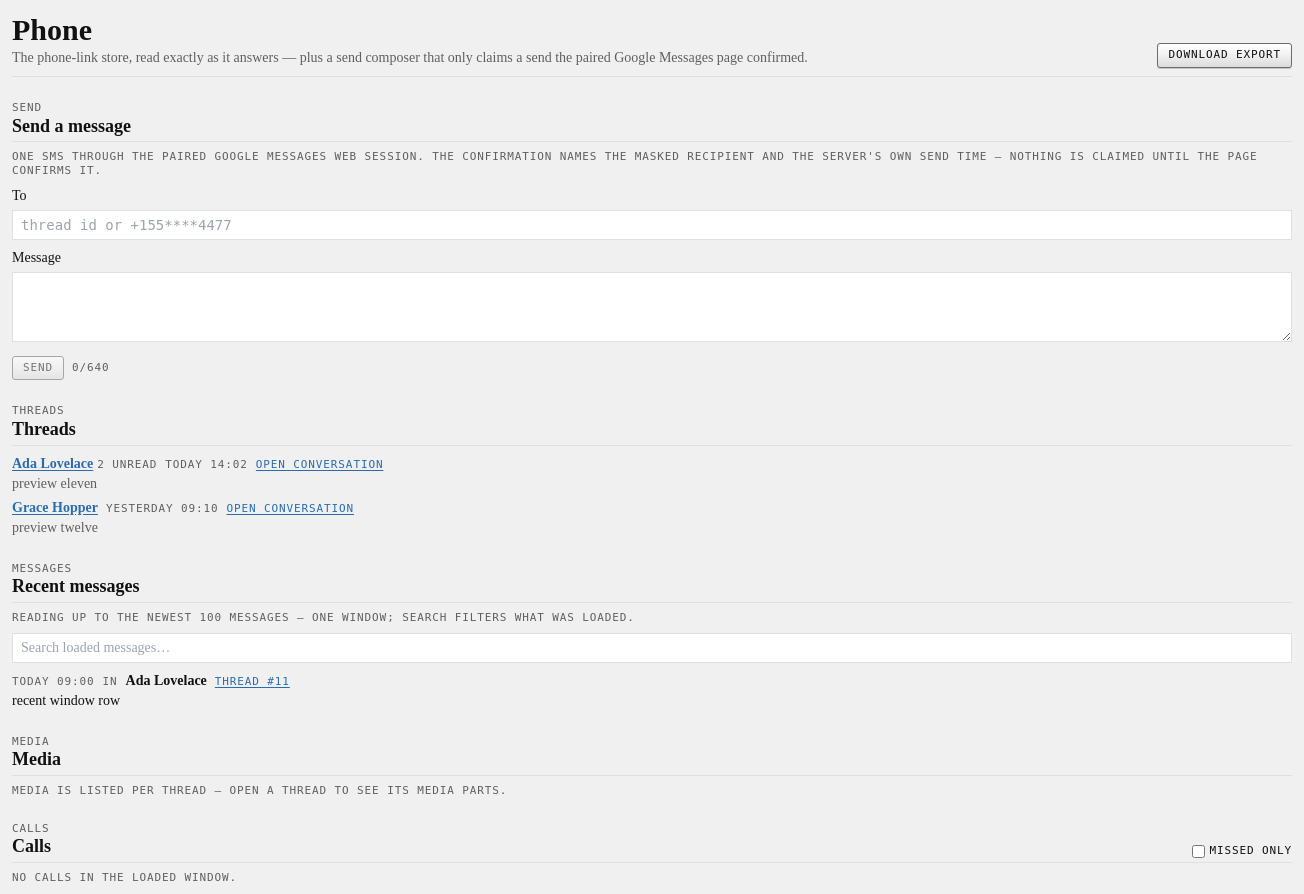
Test: phone thread view — loading / empty / refusal / unavailable › names a refusal inline (code + message + fix hint) and retries on demand
What coordinates should you click on to do the following:
click the button with aria-label "Open conversation with Ada Lovelace"
I would click on:
 (320, 464)
Its box is [256,458,383,471].
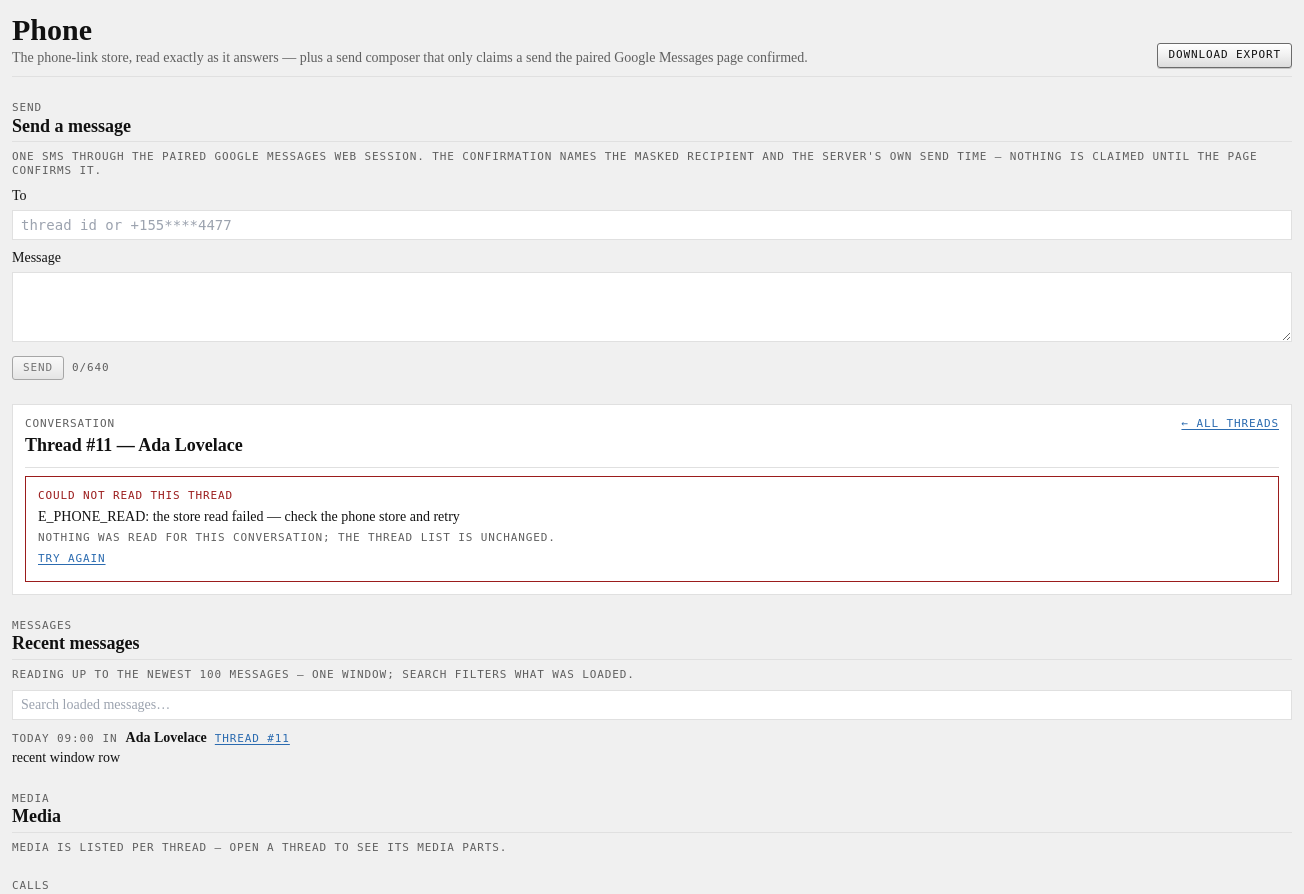
Expected: the message with test id "phone-thread-error" shows "E_PHONE_READ", [38,509,460,524]
Expected: the message with test id "phone-thread-error" shows "the store read failed", [38,509,460,524]
Expected: the message with test id "phone-thread-error" shows "check the phone store and retry", [38,509,460,524]
What coordinates should you click on to do the following:
click the button with test id "phone-thread-retry"
I would click on:
 (72, 558)
Its box is [38,552,106,565].
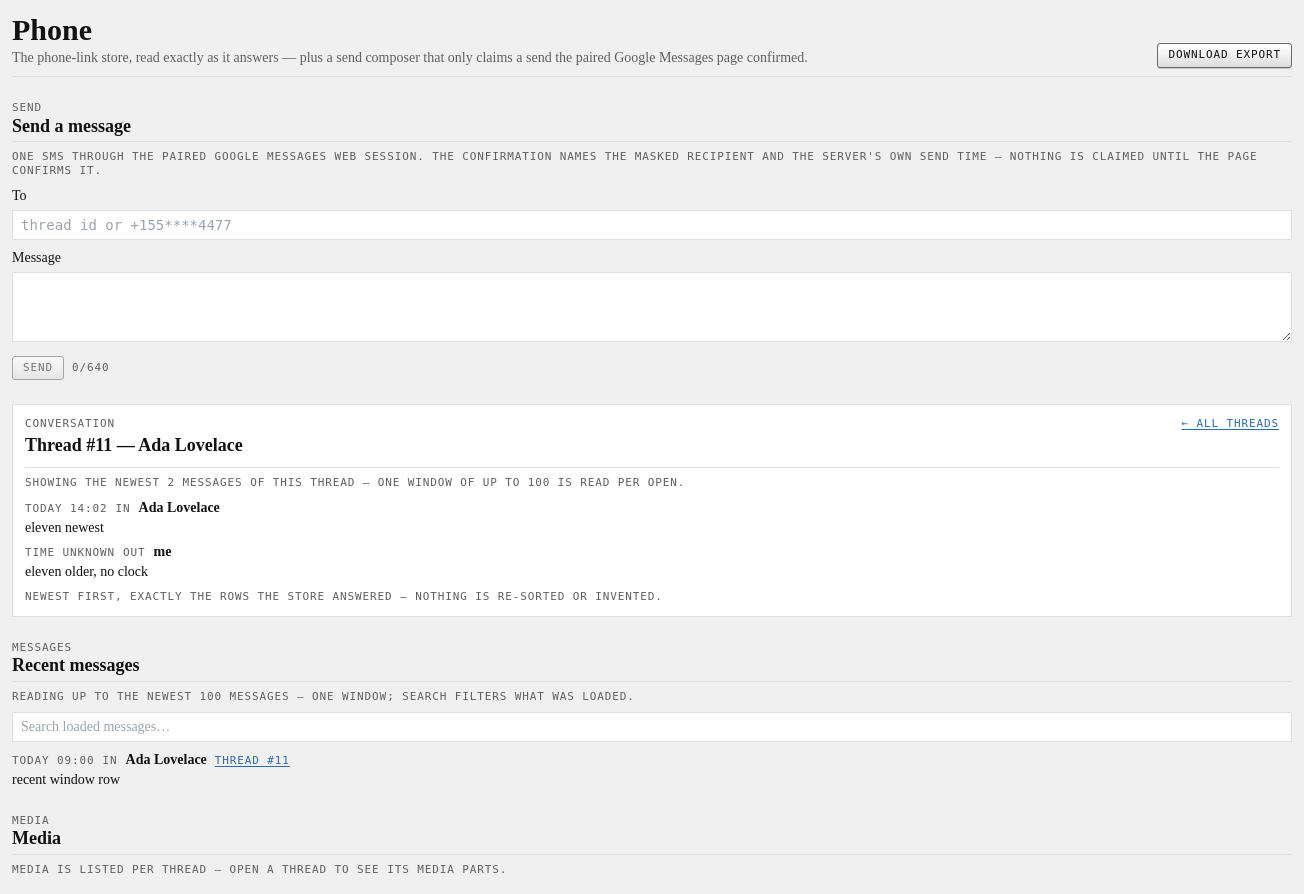
Expected: the number of list items with test id "phone-thread-message" is 2, [25,500,220,535]; [25,544,171,579]
Expected: the message with test id "phone-thread-error" is gone
